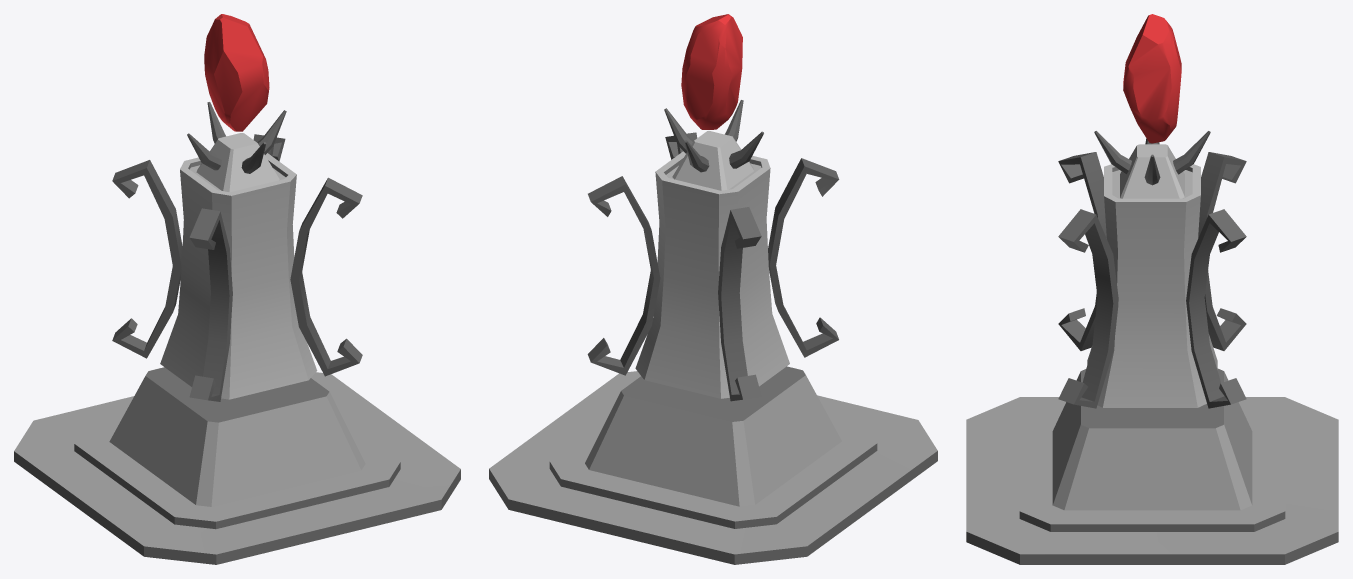
File: Fire Tower Lv2.fbx
3 views of the same model, side by side, from view 1: azimuth 30°, elevation 25°; view 2: azimuth 150°, elevation 25°; view 3: azimuth 270°, elevation 25° (orthographic).
Visible parts, largest first — view 1: Fire Tower Lv2, Crystal Lv2; view 2: Fire Tower Lv2, Crystal Lv2; view 3: Fire Tower Lv2, Crystal Lv2.
Part boxes in pixels (x1,y1,x2,y2): Fire Tower Lv2: [14, 102, 460, 564]; Crystal Lv2: [204, 14, 269, 131]; Fire Tower Lv2: [489, 100, 937, 564]; Crystal Lv2: [681, 14, 742, 129]; Fire Tower Lv2: [966, 131, 1338, 564]; Crystal Lv2: [1123, 14, 1181, 143].
Bounding box in the file's own units: 862 × 1188 × 862.
